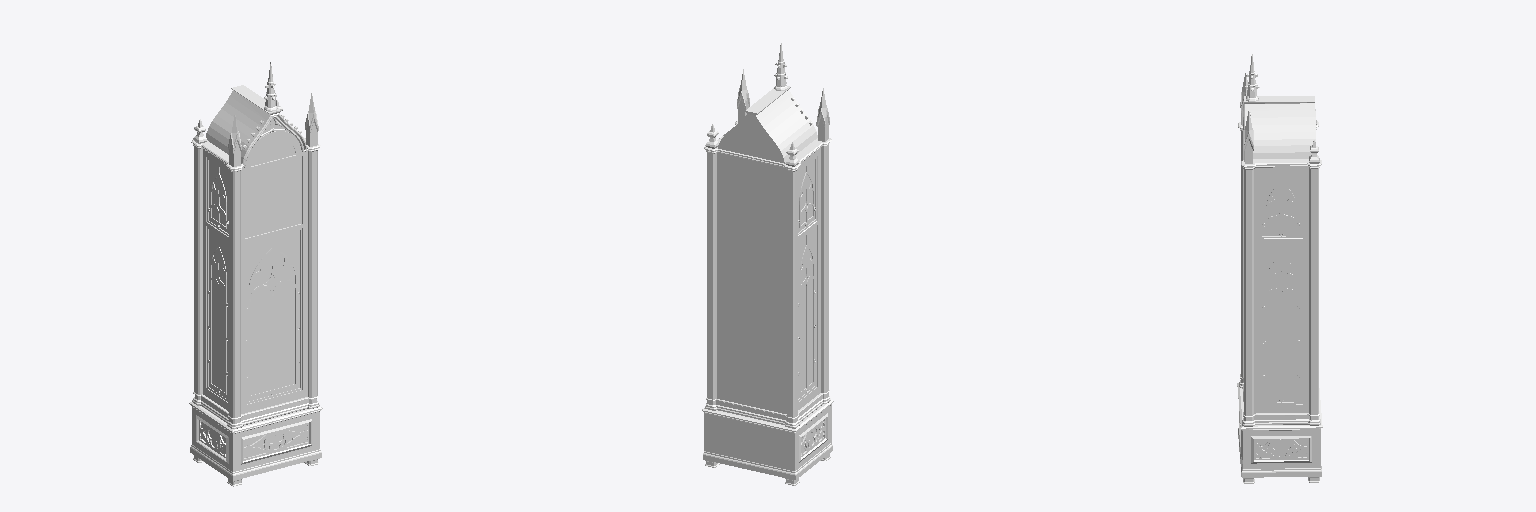
Rendered from clock.obj.
The picture shows the model from 3 angles: view 1: azimuth 30°, elevation 25°; view 2: azimuth 150°, elevation 25°; view 3: azimuth 270°, elevation 25°; orthographic projection.
Visible parts, largest first — view 1: MoonDial; view 2: MoonDial; view 3: MoonDial.
Boxes of the visible parts, <box> form: MoonDial: <box>189,62,322,486</box>; MoonDial: <box>702,43,833,485</box>; MoonDial: <box>1237,54,1322,483</box>.
Size of the model in its own units: 0.0329 by 0.1363 by 0.0257.